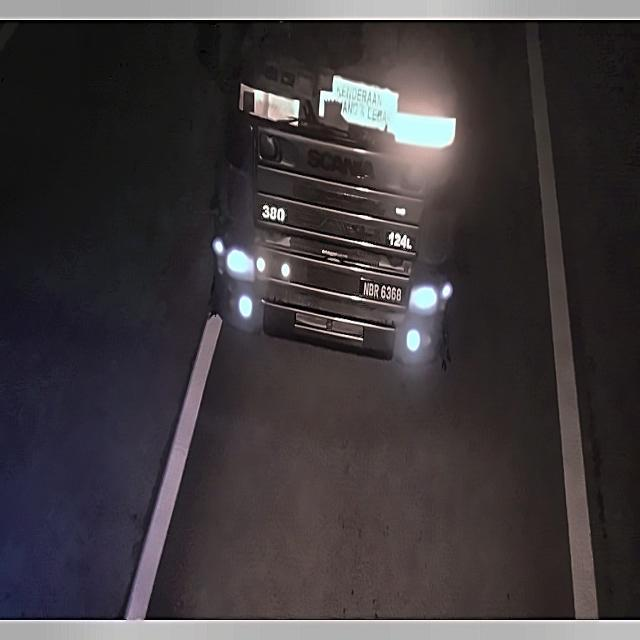car: (356, 269, 406, 312)
